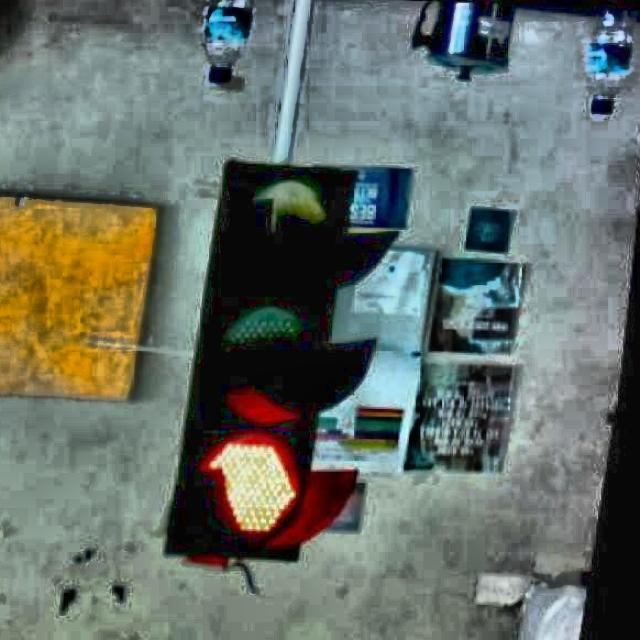red: (206, 162, 366, 568)
